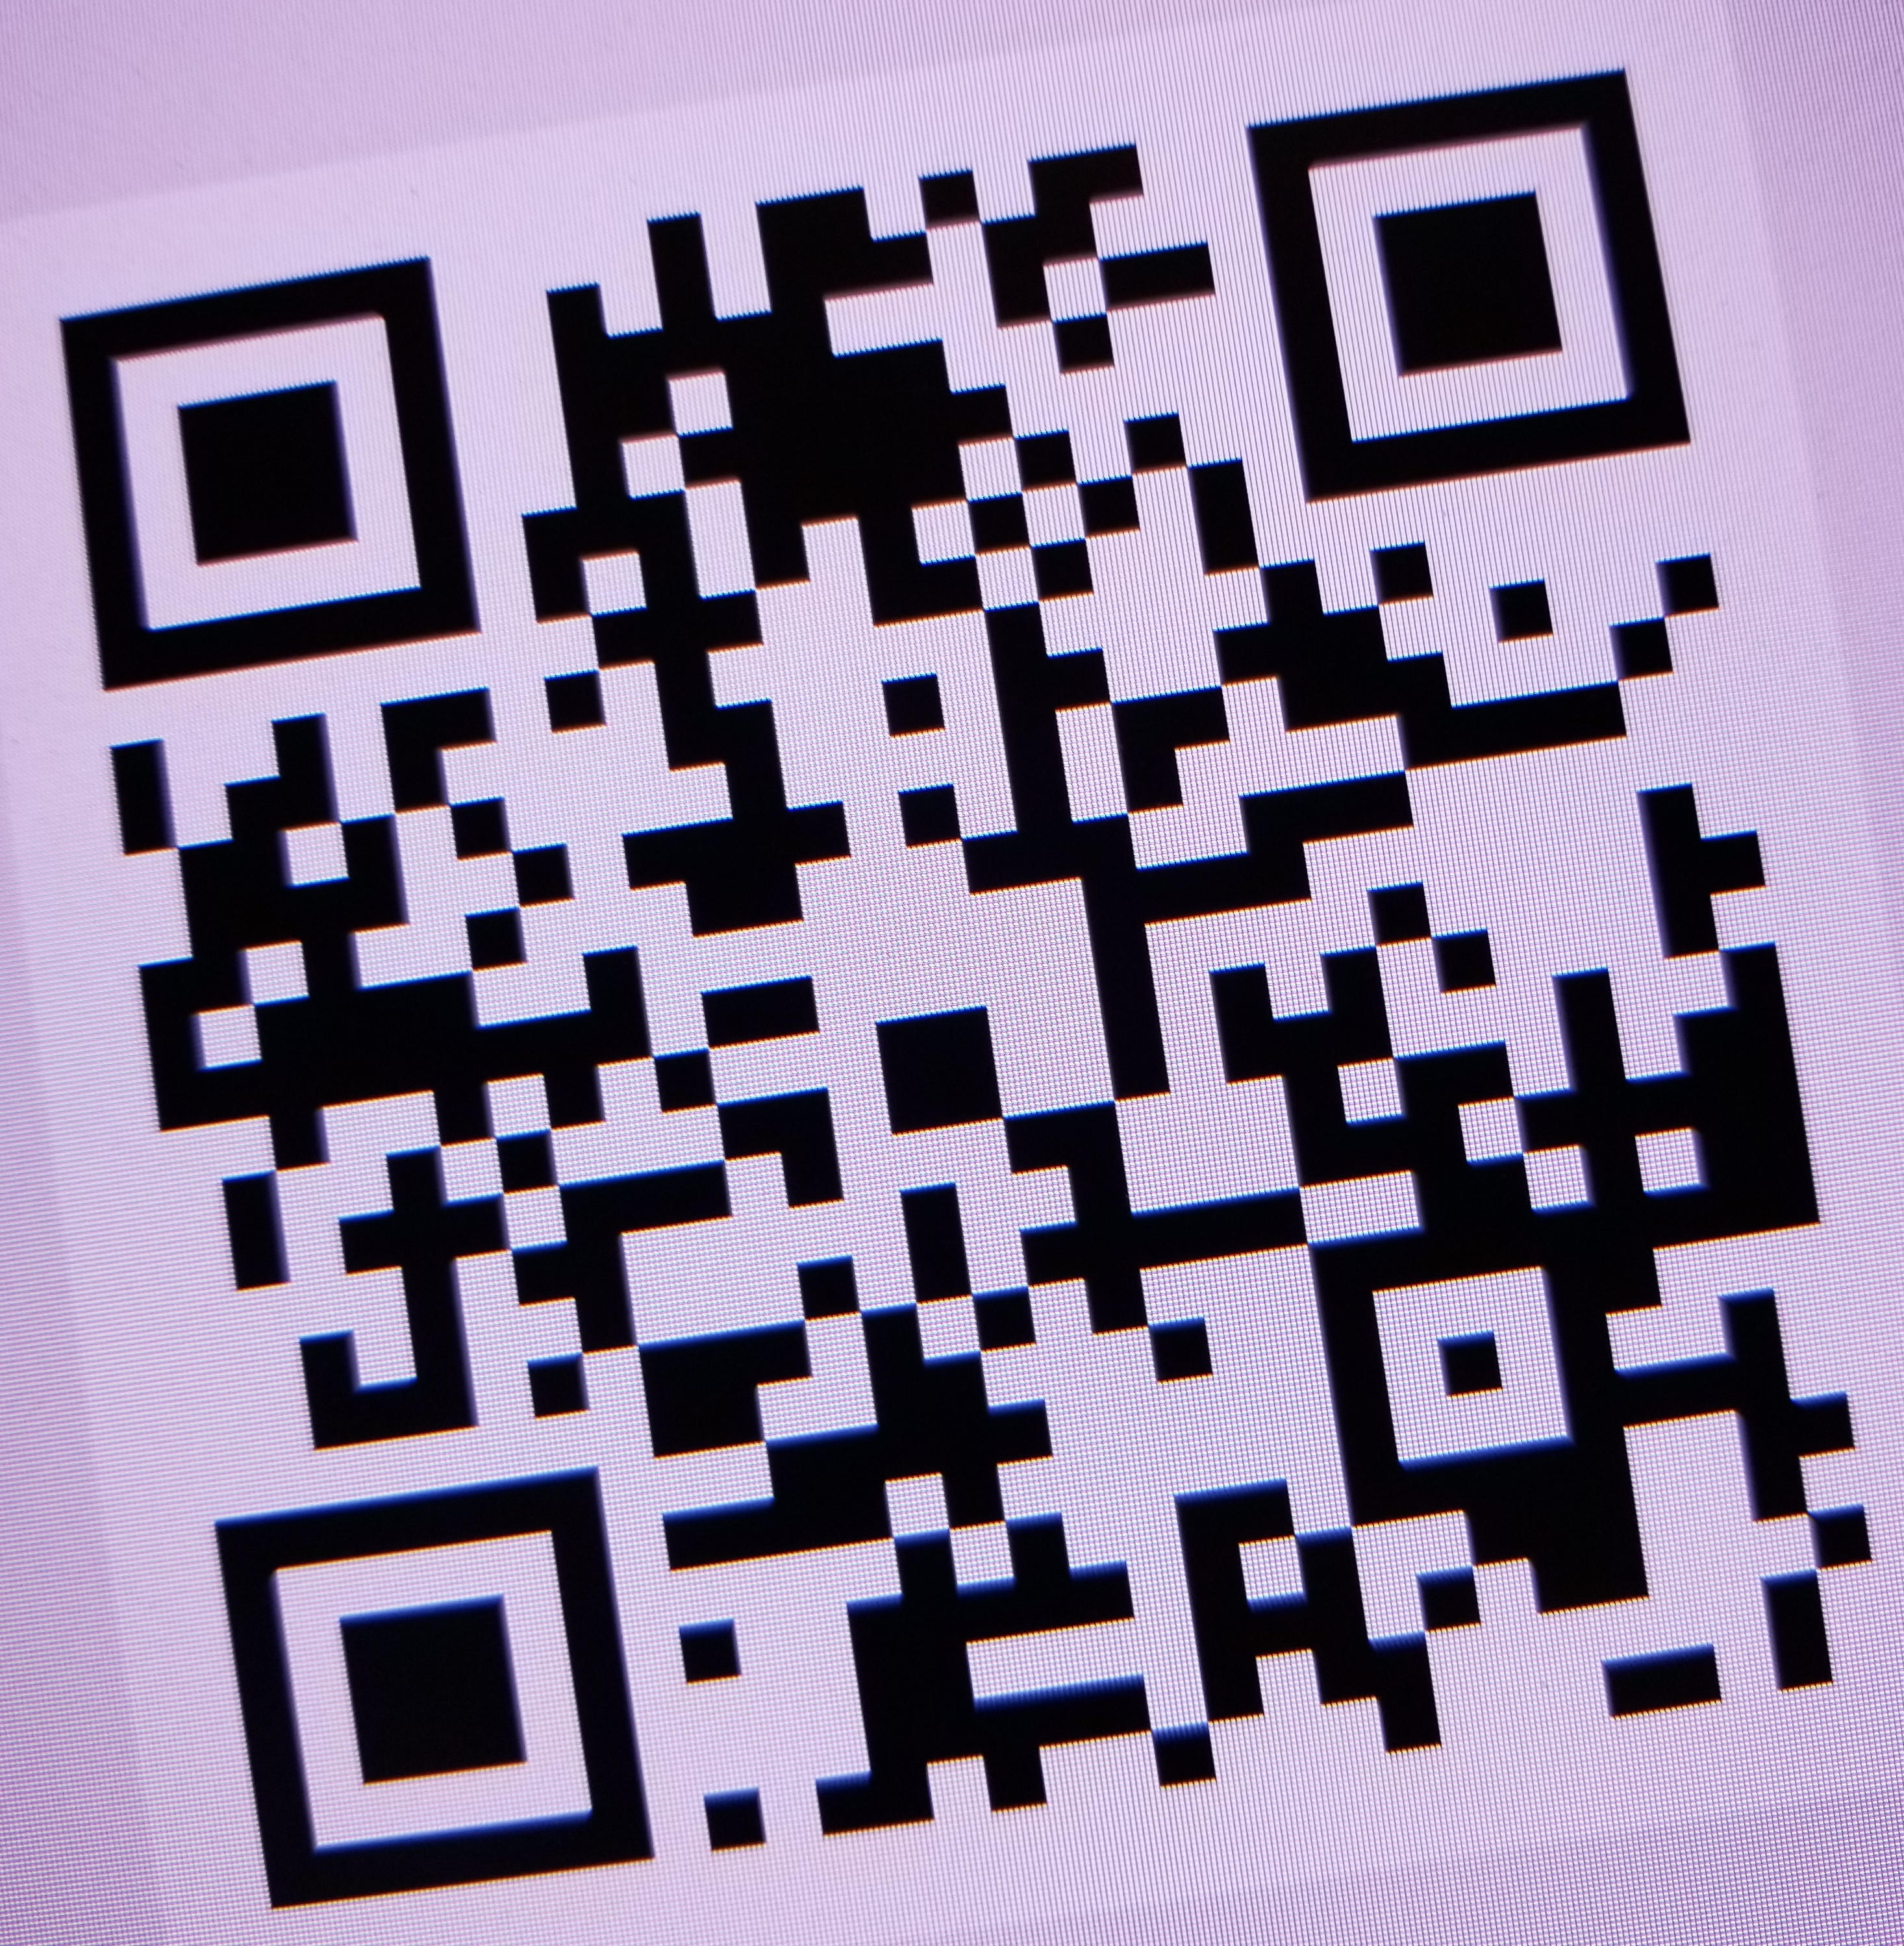QR_CODE: (21, 30, 1892, 1934)
